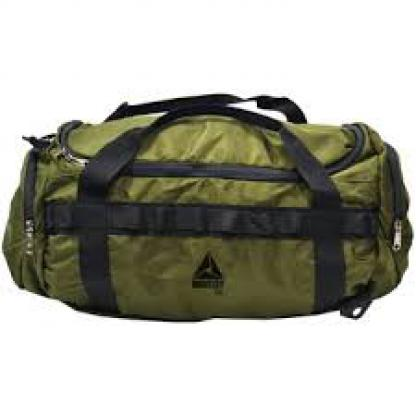morral: (4, 78, 414, 346)
